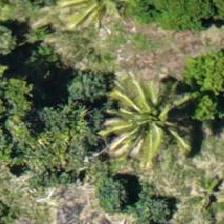Kelapa_Sawit: (104, 72, 194, 162)
